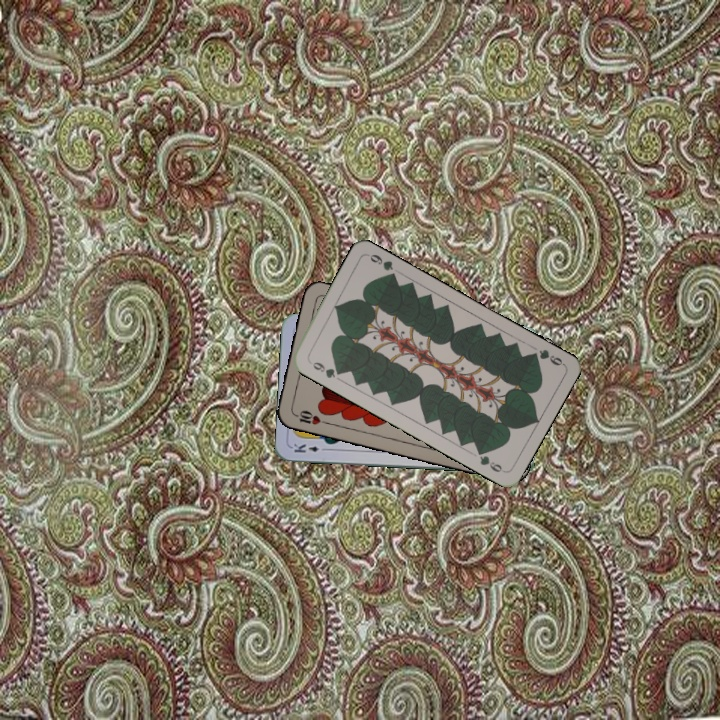EK: (290, 440, 330, 455)
G9: (305, 357, 345, 381), (525, 345, 566, 368)
H10: (290, 406, 330, 427)
